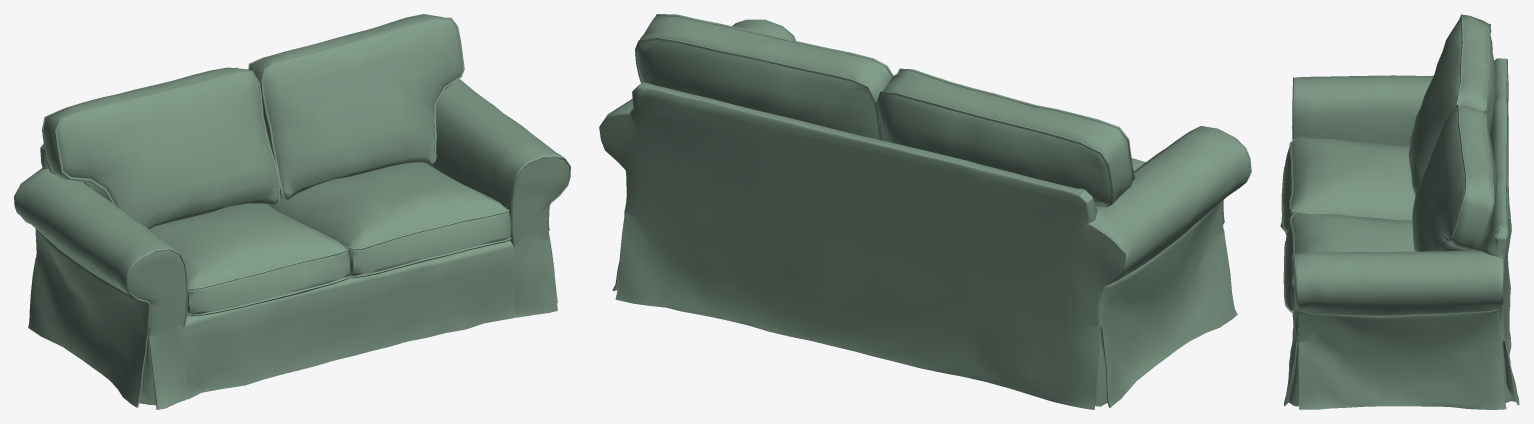
File: cover-tallmyra-jasnozielony.glb
The picture shows the model from 3 angles, left to right: view 1: azimuth 30°, elevation 25°; view 2: azimuth 150°, elevation 25°; view 3: azimuth 270°, elevation 25°; orthographic projection. The views are drawn at different scales.
Visible parts, largest first — view 1: Mesh_0; view 2: Mesh_0; view 3: Mesh_0.
Boxes of the visible parts, x1,y1,x2,y2 form: Mesh_0: (14, 14, 570, 409); Mesh_0: (599, 14, 1251, 409); Mesh_0: (1280, 14, 1519, 409).
Size of the model in its own units: 1.79 by 0.88 by 0.88.
Materials: 2 (2 with a texture image).
